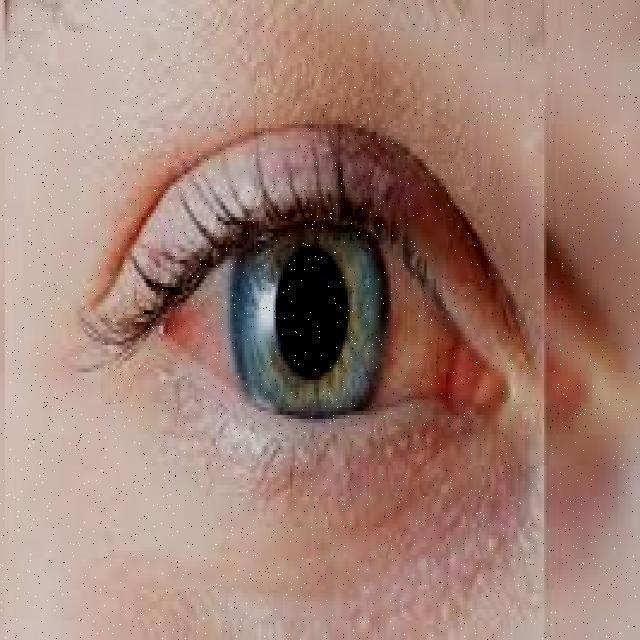Conjunctivitis: (142, 267, 508, 433)
